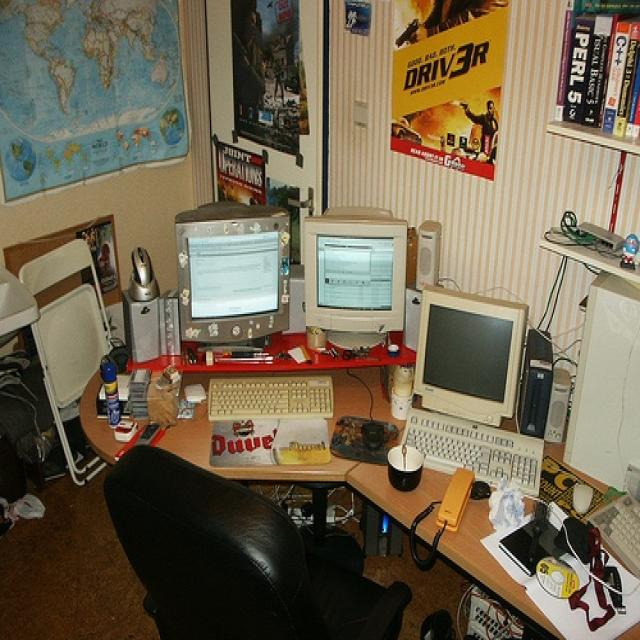chair: (105, 446, 415, 638), (18, 236, 129, 487)
tvmonitor: (174, 193, 289, 357), (415, 276, 530, 428), (302, 205, 407, 353)
